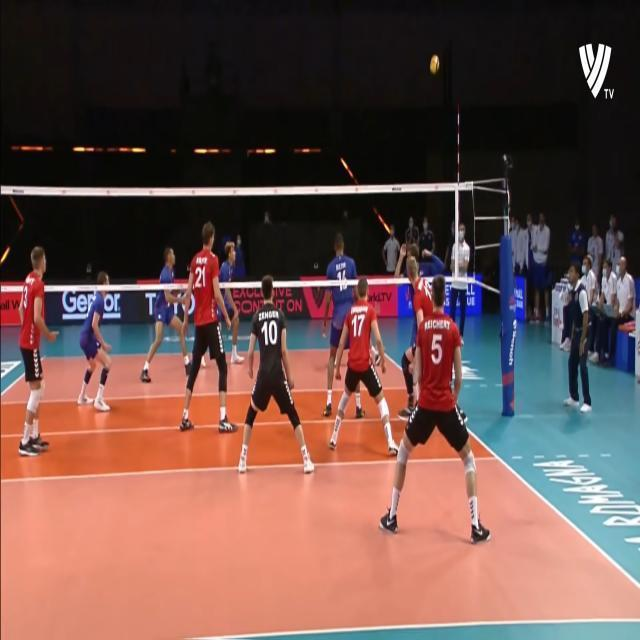volleyball: (430, 54, 440, 74)
